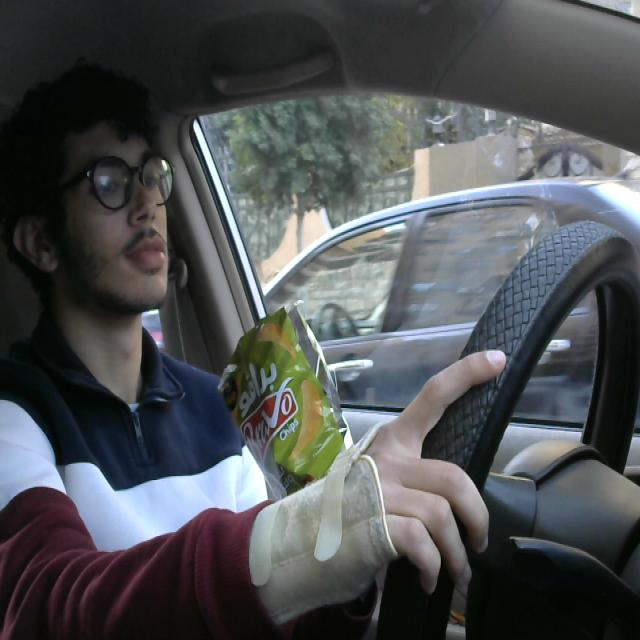eating: (219, 304, 357, 518)
